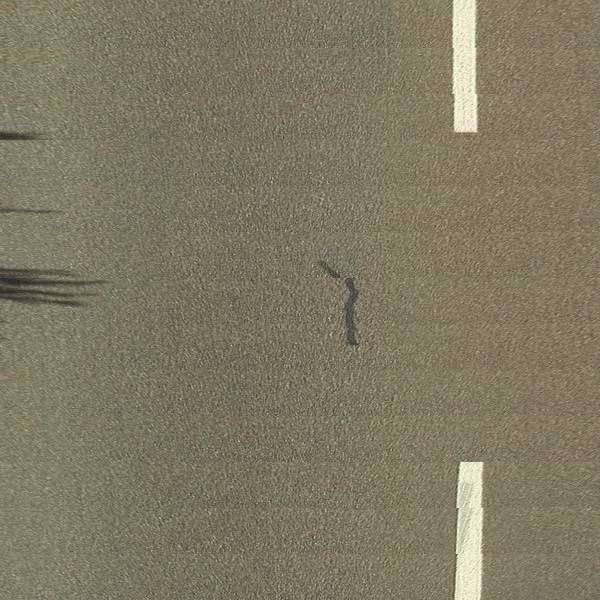road_damage: (317, 258, 367, 350)
